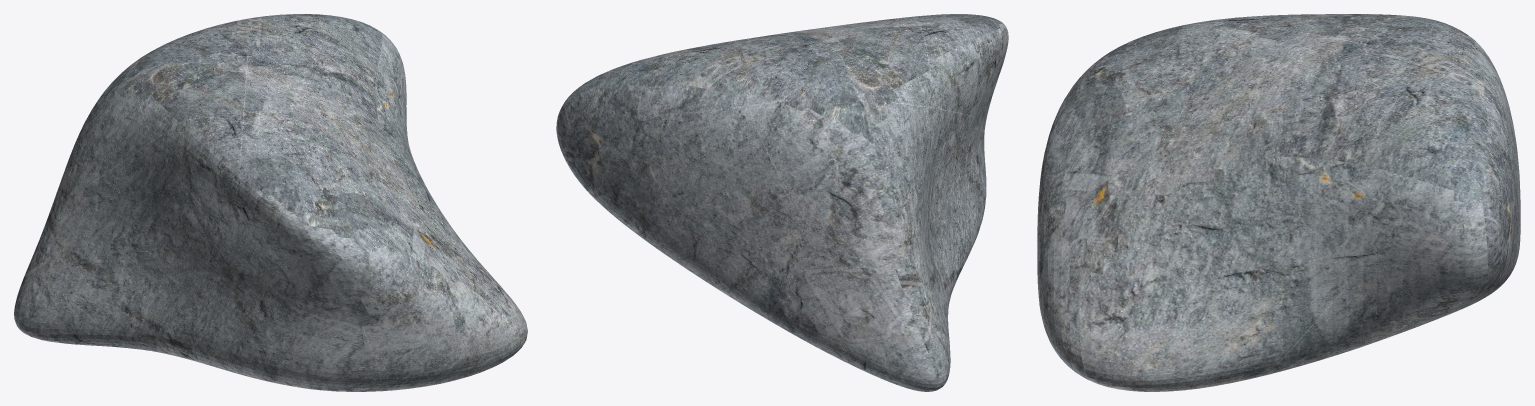
The model's file is rock.glb.
3 renders of one model, left to right at view 1: azimuth 30°, elevation 25°; view 2: azimuth 150°, elevation 25°; view 3: azimuth 270°, elevation 25°, orthographic. The views are drawn at different scales.
Parts seen in each view (by area): view 1: Cube; view 2: Cube; view 3: Cube.
Part boxes in pixels (x1=…): Cube: x1=14, y1=14, x2=527, y2=391; Cube: x1=556, y1=14, x2=1008, y2=391; Cube: x1=1037, y1=14, x2=1520, y2=391.
Bounding box in the file's own units: 2.86 × 1.96 × 2.86.
1 material, 1 textured.
